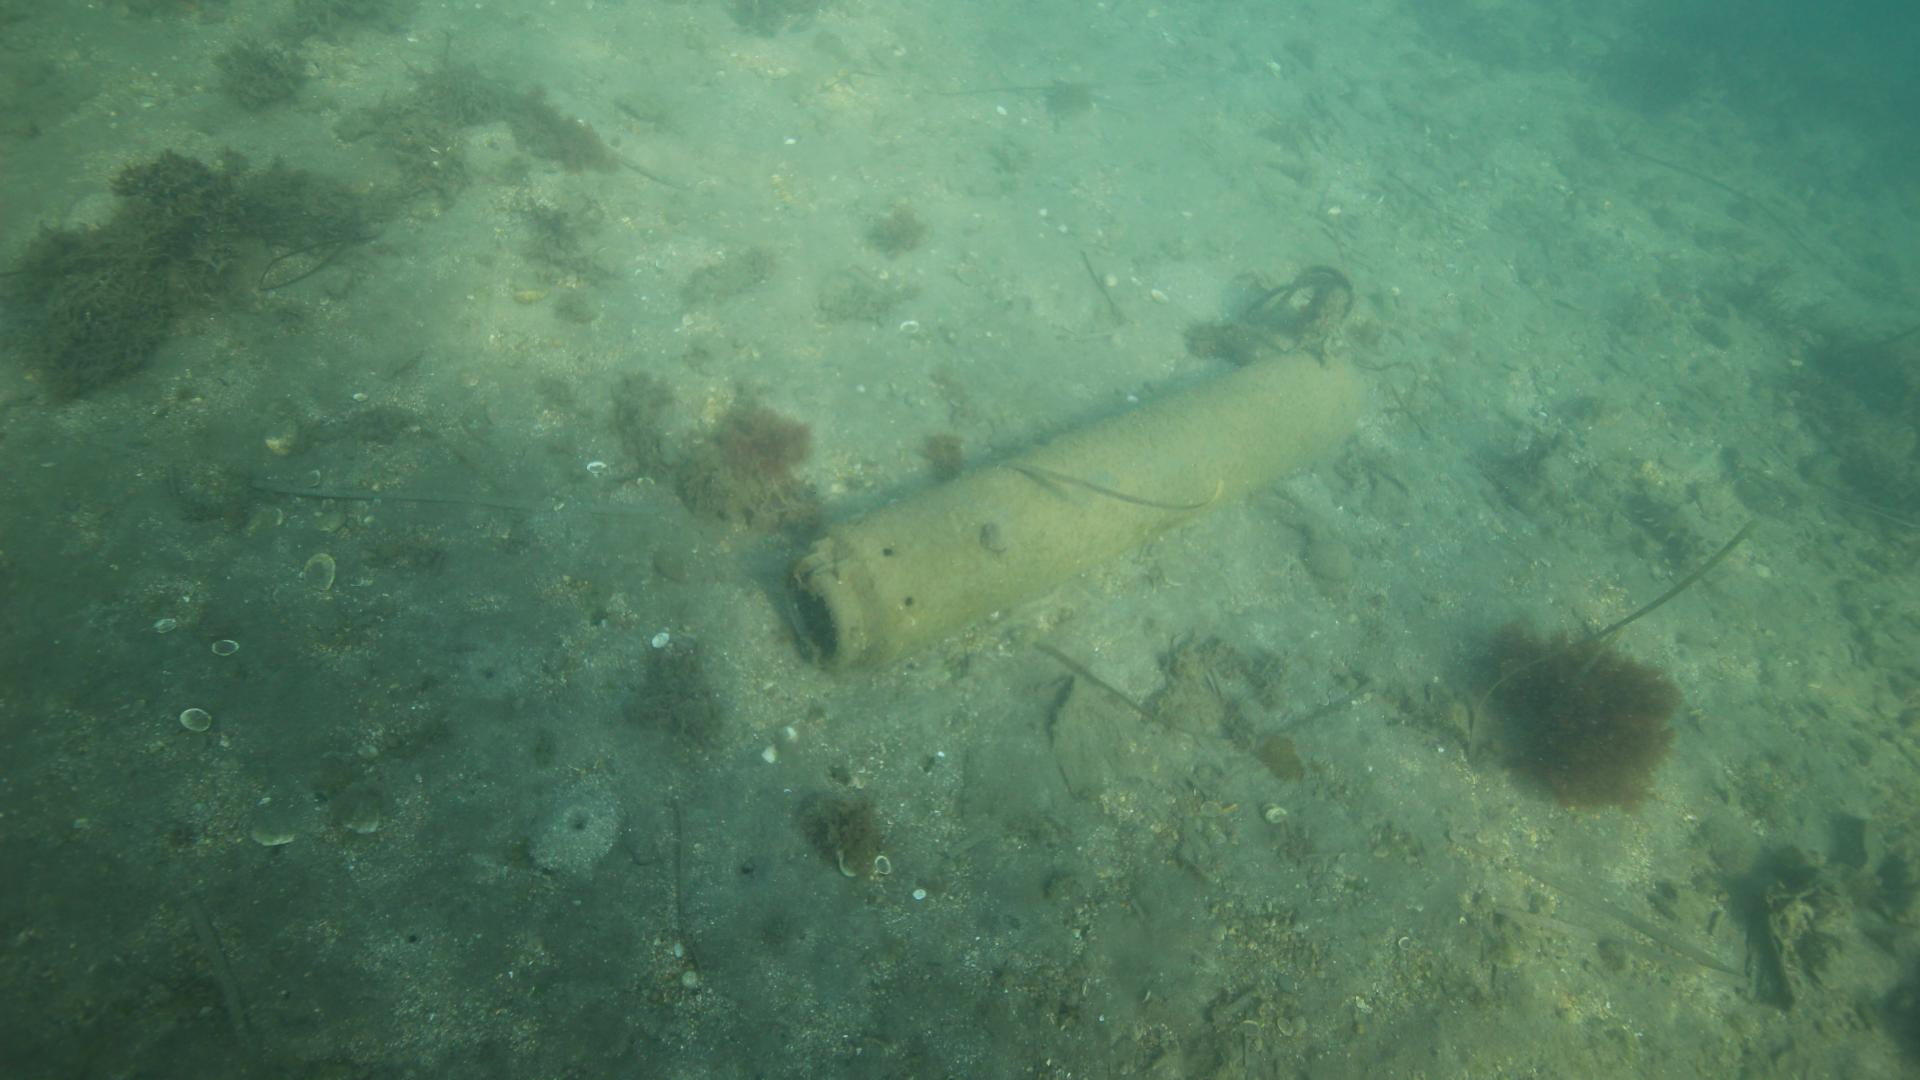bundle of ropes: (1240, 261, 1358, 365)
eel fish trap: (778, 345, 1352, 676)
